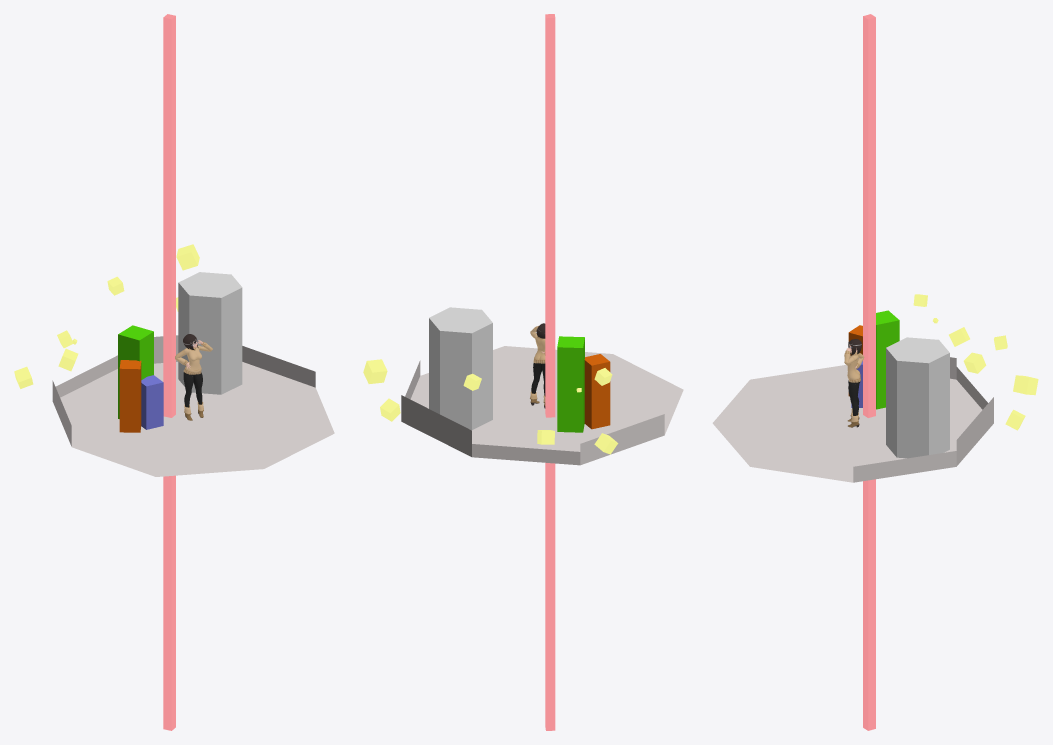
File: polly_scene.glb
The picture shows the model from 3 angles, left to right: view 1: azimuth 30°, elevation 25°; view 2: azimuth 150°, elevation 25°; view 3: azimuth 270°, elevation 25°; orthographic projection.
Visible parts, largest first — view 1: Plane, Cube.003, Cylinder, Cube, Cube.002, GLTF_created_0, Cube.001; view 2: Plane, Cube.003, Cylinder, Cube.002, Cube, GLTF_created_0; view 3: Plane, Cube.003, Cylinder, Cube.002, GLTF_created_0.
Boxes of the visible parts, x1,y1,x2,y2 form: Plane: (52, 335, 334, 476); Cube.003: (163, 14, 175, 730); Cylinder: (178, 272, 242, 394); Cube: (119, 360, 141, 432); Cube.002: (118, 325, 153, 418); GLTF_created_0: (175, 334, 212, 420); Cube.001: (141, 375, 163, 429); Plane: (401, 346, 683, 465); Cube.003: (545, 14, 555, 730); Cylinder: (429, 307, 492, 430); Cube.002: (557, 336, 584, 432); Cube: (584, 354, 610, 429); GLTF_created_0: (530, 323, 545, 408); Plane: (712, 357, 993, 482); Cube.003: (863, 14, 875, 730); Cylinder: (886, 337, 949, 458); Cube.002: (876, 310, 899, 409); GLTF_created_0: (844, 339, 864, 427).
Bounding box in the file's own units: 8.78 × 24.14 × 10.03.
Materials: 12 (5 with a texture image).
